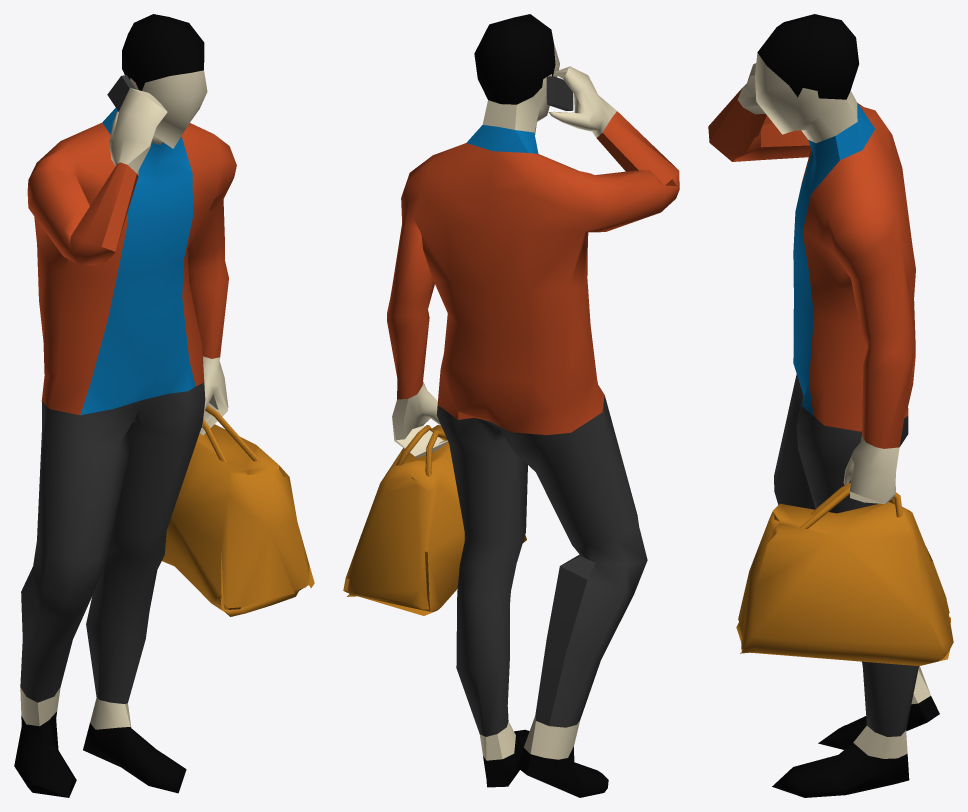
Rendered from walkingphoneman.glb.
3 renders of one model, left to right at view 1: azimuth 30°, elevation 25°; view 2: azimuth 150°, elevation 25°; view 3: azimuth 270°, elevation 25°, orthographic. The views are drawn at different scales.
Visible parts, largest first — view 1: Object005_06 - Default_0, Object001_04 - Default_0, Line005_07 - Default_0, Object002_05 - Default_0, Object007_03 - Default_0, Object006_02 - Default_0, Object008_02 - Default_0; view 2: Object001_04 - Default_0, Object005_06 - Default_0, Line005_07 - Default_0, Object007_03 - Default_0, Object008_02 - Default_0, Object006_02 - Default_0, Object002_05 - Default_0, Line008; view 3: Object001_04 - Default_0, Line005_07 - Default_0, Object005_06 - Default_0, Object007_03 - Default_0, Object008_02 - Default_0, Object006_02 - Default_0, Object002_05 - Default_0.
Part boxes in pixels (x1,y1,x2,y2): Object005_06 - Default_0: [20, 382, 205, 703]; Object001_04 - Default_0: [27, 123, 236, 415]; Line005_07 - Default_0: [162, 405, 314, 616]; Object002_05 - Default_0: [80, 108, 195, 415]; Object007_03 - Default_0: [20, 70, 228, 729]; Object006_02 - Default_0: [14, 712, 186, 797]; Object008_02 - Default_0: [122, 14, 204, 90]; Object001_04 - Default_0: [387, 111, 679, 434]; Object005_06 - Default_0: [436, 395, 647, 736]; Line005_07 - Default_0: [343, 425, 526, 615]; Object007_03 - Default_0: [392, 42, 616, 760]; Object008_02 - Default_0: [474, 14, 555, 104]; Object006_02 - Default_0: [483, 729, 608, 797]; Object002_05 - Default_0: [466, 125, 538, 153]; Line008: [546, 76, 573, 110]; Object001_04 - Default_0: [708, 88, 915, 448]; Line005_07 - Default_0: [736, 482, 953, 665]; Object005_06 - Default_0: [774, 374, 918, 736]; Object007_03 - Default_0: [737, 53, 930, 758]; Object008_02 - Default_0: [757, 14, 859, 99]; Object006_02 - Default_0: [772, 696, 939, 797]; Object002_05 - Default_0: [793, 103, 874, 415].
Size of the model in its own units: 20.82 by 60.4 by 17.34.
